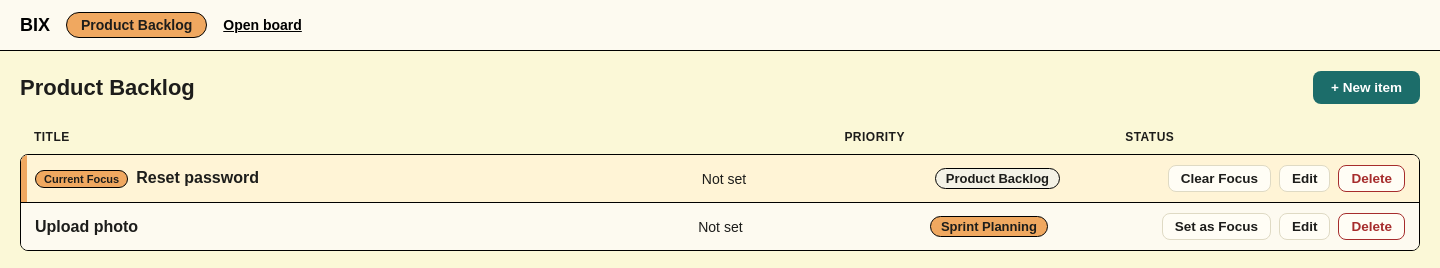
Test: ProductBacklog page - Current Focus (US-07) › clears the focus with null, then removes the badge
What coordinates should you click on to do the following:
click the button with aria-label "Clear Focus: Reset password"
I would click on:
 (1219, 178)
Its box is [1168,165,1271,192].
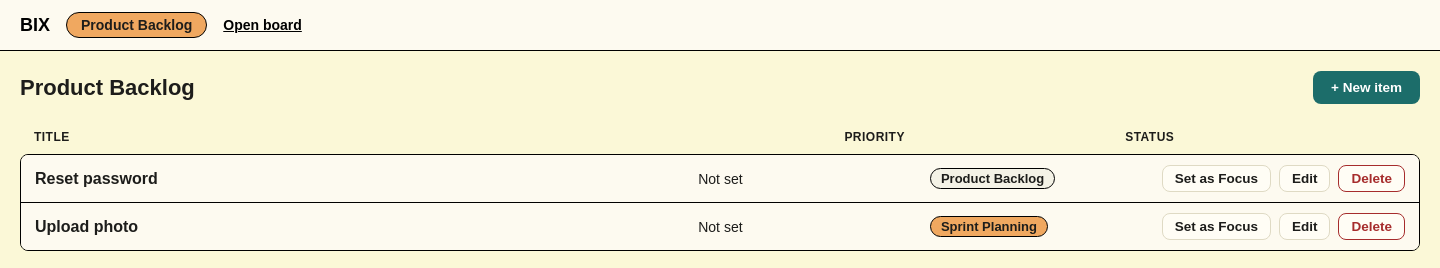
Expected: the text "Current Focus" is gone
